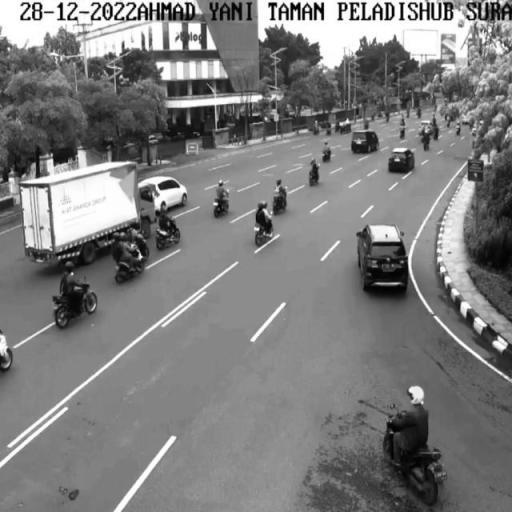car: (356, 224, 414, 293), (147, 180, 192, 206), (390, 146, 415, 175), (354, 128, 379, 157)
motorcycle: (381, 411, 447, 504), (53, 286, 99, 328), (116, 252, 146, 284), (156, 222, 179, 252), (253, 222, 274, 248), (212, 197, 232, 217), (274, 193, 288, 214), (308, 166, 318, 184)
truck: (29, 162, 152, 268)
